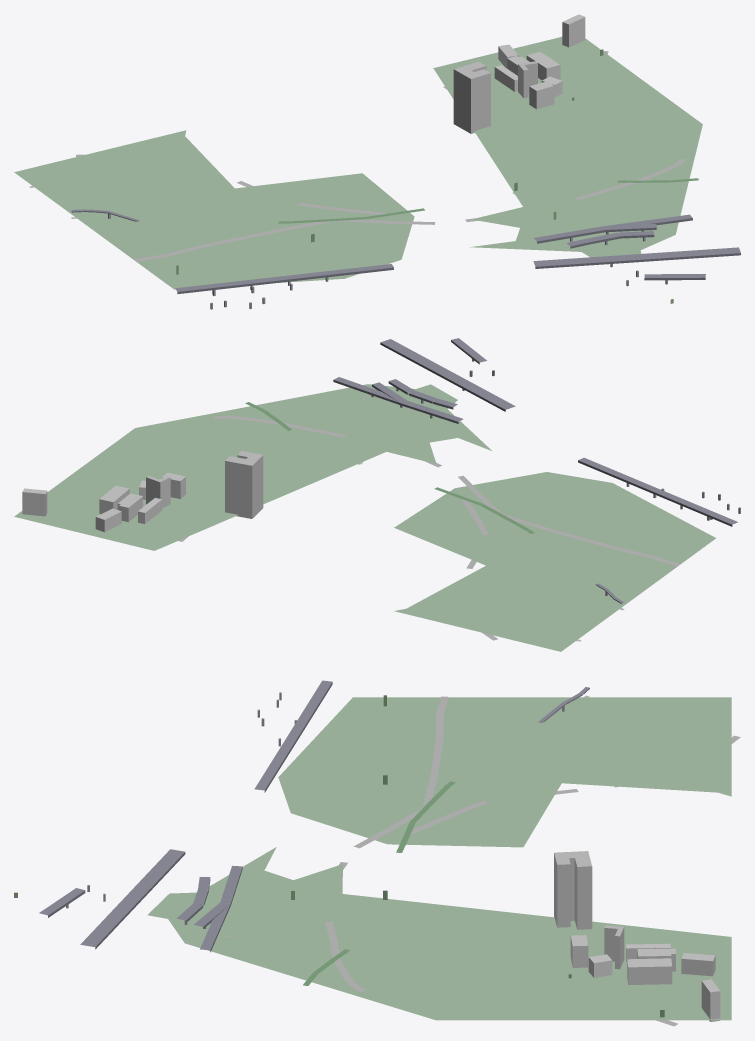
The picture shows the model from 3 angles, top to bottom: view 1: azimuth 30°, elevation 25°; view 2: azimuth 150°, elevation 25°; view 3: azimuth 270°, elevation 25°; orthographic projection. The views are drawn at different scales.
Bounding box in the file's own units: 514 × 47.96 × 472.
